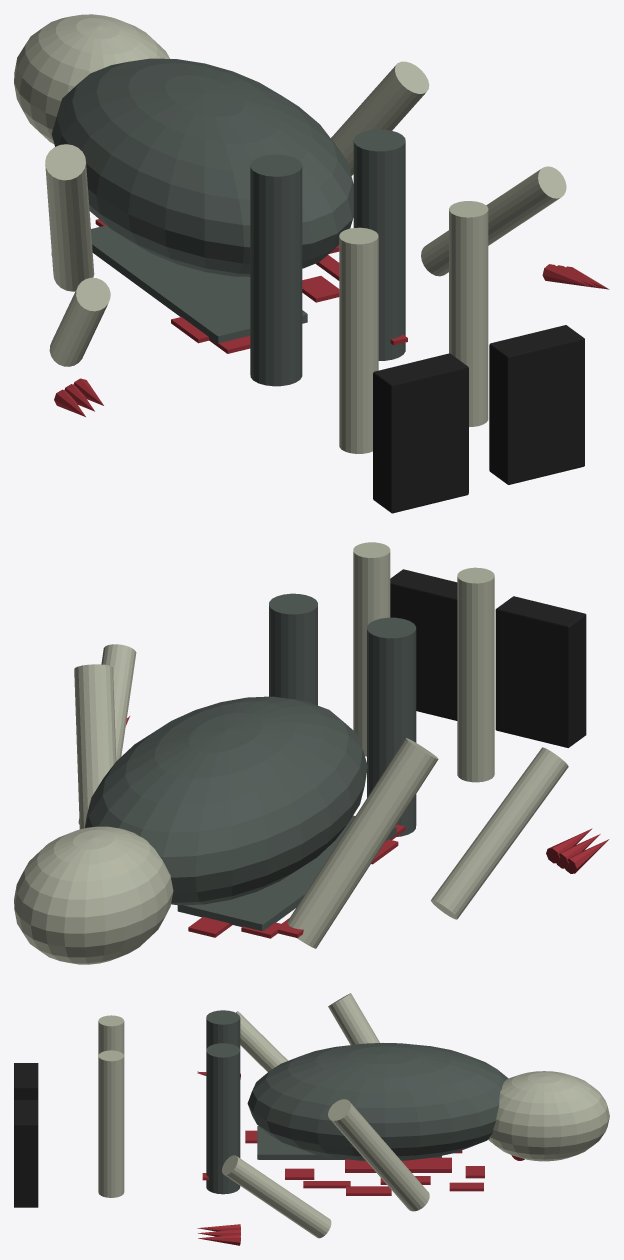
File: dz_blender_walker.glb
The picture shows the model from 3 angles, top to bottom: view 1: azimuth 30°, elevation 25°; view 2: azimuth 150°, elevation 25°; view 3: azimuth 270°, elevation 25°; orthographic projection. The views are drawn at different scales.
Parts seen in each view (by area): view 1: torso asymetrique, botte humide.001, botte humide, cuisse tissu.001, tete infectee, cuisse tissu, tibia expose, pan manteau dechire, tibia expose.001, bras maigre.001, avant bras griffe, bras maigre (+2 smaller); view 2: torso asymetrique, tete infectee, botte humide.001, bras maigre.001, tibia expose, cuisse tissu.001, botte humide, avant bras griffe.001, cuisse tissu, bras maigre, tibia expose.001, pan manteau dechire (+2 smaller); view 3: torso asymetrique, tete infectee, cuisse tissu, tibia expose.001, bras maigre, avant bras griffe, botte humide, bras maigre.001, avant bras griffe.001, cuisse tissu.001, pan manteau dechire, plaie torse (+5 smaller).
Part boxes in pixels (x1=…): torso asymetrique: x1=52, y1=58, x2=353, y2=276; botte humide.001: x1=373, y1=353, x2=468, y2=513; botte humide: x1=489, y1=325, x2=584, y2=484; cuisse tissu.001: x1=250, y1=154, x2=302, y2=386; tete infectee: x1=14, y1=14, x2=169, y2=143; cuisse tissu: x1=353, y1=129, x2=405, y2=360; tibia expose: x1=339, y1=227, x2=378, y2=453; pan manteau dechire: x1=91, y1=225, x2=307, y2=343; tibia expose.001: x1=449, y1=201, x2=488, y2=426; bras maigre.001: x1=45, y1=144, x2=94, y2=291; avant bras griffe: x1=421, y1=166, x2=566, y2=276; bras maigre: x1=331, y1=61, x2=429, y2=175; torso asymetrique: x1=85, y1=696, x2=367, y2=905; tete infectee: x1=14, y1=826, x2=173, y2=964; botte humide.001: x1=495, y1=596, x2=586, y2=747; bras maigre.001: x1=287, y1=738, x2=438, y2=948; tibia expose: x1=457, y1=567, x2=494, y2=782; cuisse tissu.001: x1=367, y1=617, x2=416, y2=836; botte humide: x1=390, y1=569, x2=457, y2=720; avant bras griffe.001: x1=431, y1=747, x2=568, y2=919; cuisse tissu: x1=269, y1=593, x2=317, y2=705; bras maigre: x1=74, y1=664, x2=116, y2=829; tibia expose.001: x1=353, y1=542, x2=390, y2=756; pan manteau dechire: x1=177, y1=815, x2=396, y2=930; torso asymetrique: x1=247, y1=1043, x2=508, y2=1161; tete infectee: x1=488, y1=1071, x2=609, y2=1161; cuisse tissu: x1=206, y1=1043, x2=240, y2=1194; tibia expose.001: x1=98, y1=1050, x2=124, y2=1197; bras maigre: x1=328, y1=1099, x2=429, y2=1211; avant bras griffe: x1=222, y1=1155, x2=331, y2=1238; botte humide: x1=14, y1=1100, x2=38, y2=1207; bras maigre.001: x1=328, y1=993, x2=379, y2=1044; avant bras griffe.001: x1=236, y1=1011, x2=288, y2=1071; cuisse tissu.001: x1=206, y1=1010, x2=240, y2=1049; pan manteau dechire: x1=257, y1=1126, x2=441, y2=1159; plaie torse: x1=345, y1=1157, x2=451, y2=1172.
Bounding box in the file's own units: 1.62 × 0.6518 × 2.45.
